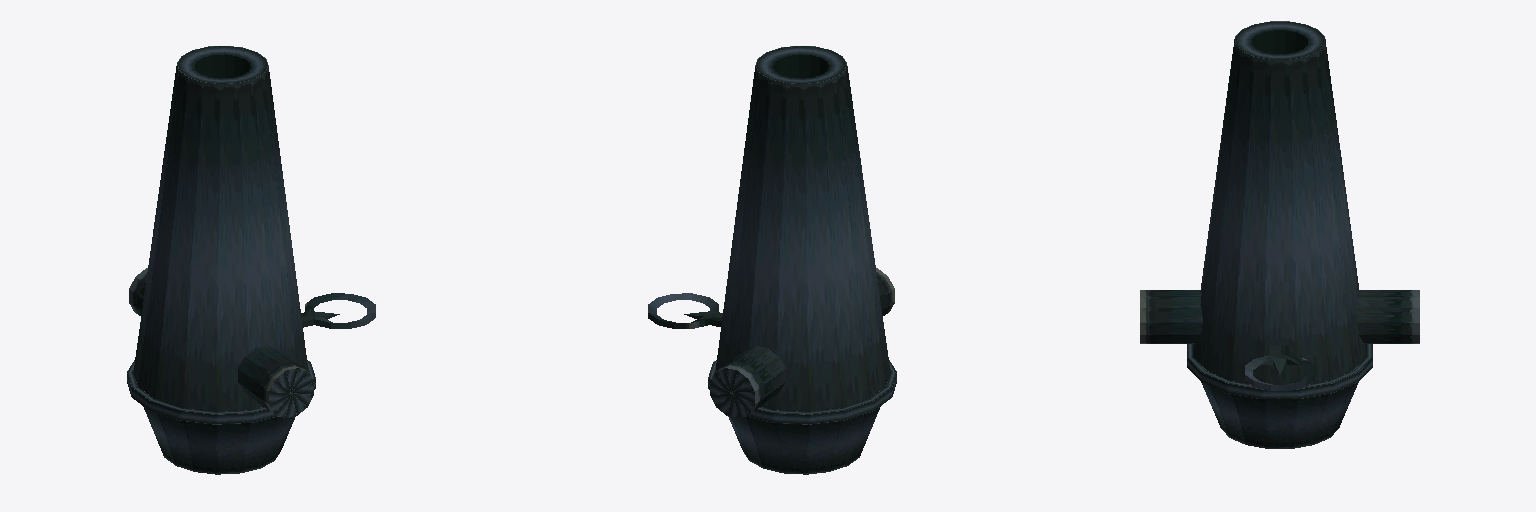
3 views of the same model, side by side, from view 1: azimuth 30°, elevation 25°; view 2: azimuth 150°, elevation 25°; view 3: azimuth 270°, elevation 25° (orthographic).
Parts seen in each view (by area): view 1: mesh-1; view 2: mesh-1; view 3: mesh-1.
Part boxes in pixels (x1,y1,x2,y2): mesh-1: (127, 46, 375, 474); mesh-1: (648, 46, 896, 474); mesh-1: (1140, 21, 1419, 448).
Bounding box in the file's own units: 1.42 × 2.35 × 1.49.
Materials: 1 (1 with a texture image).